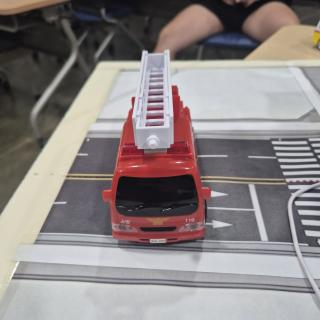Fire_truck: (103, 50, 211, 244)
